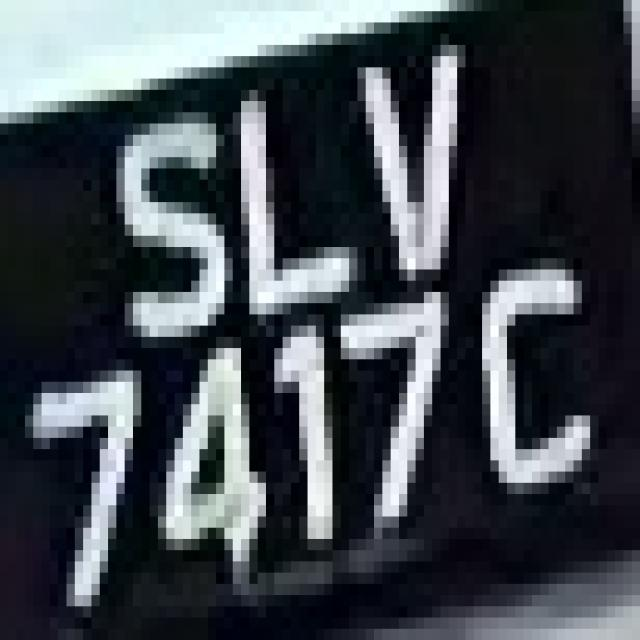1: (258, 258, 357, 550)
4: (125, 314, 266, 584)
7: (17, 348, 158, 629), (332, 292, 449, 550)
C: (474, 258, 615, 516)
L: (192, 56, 358, 314)
S: (100, 79, 232, 348)
V: (333, 12, 482, 270)
